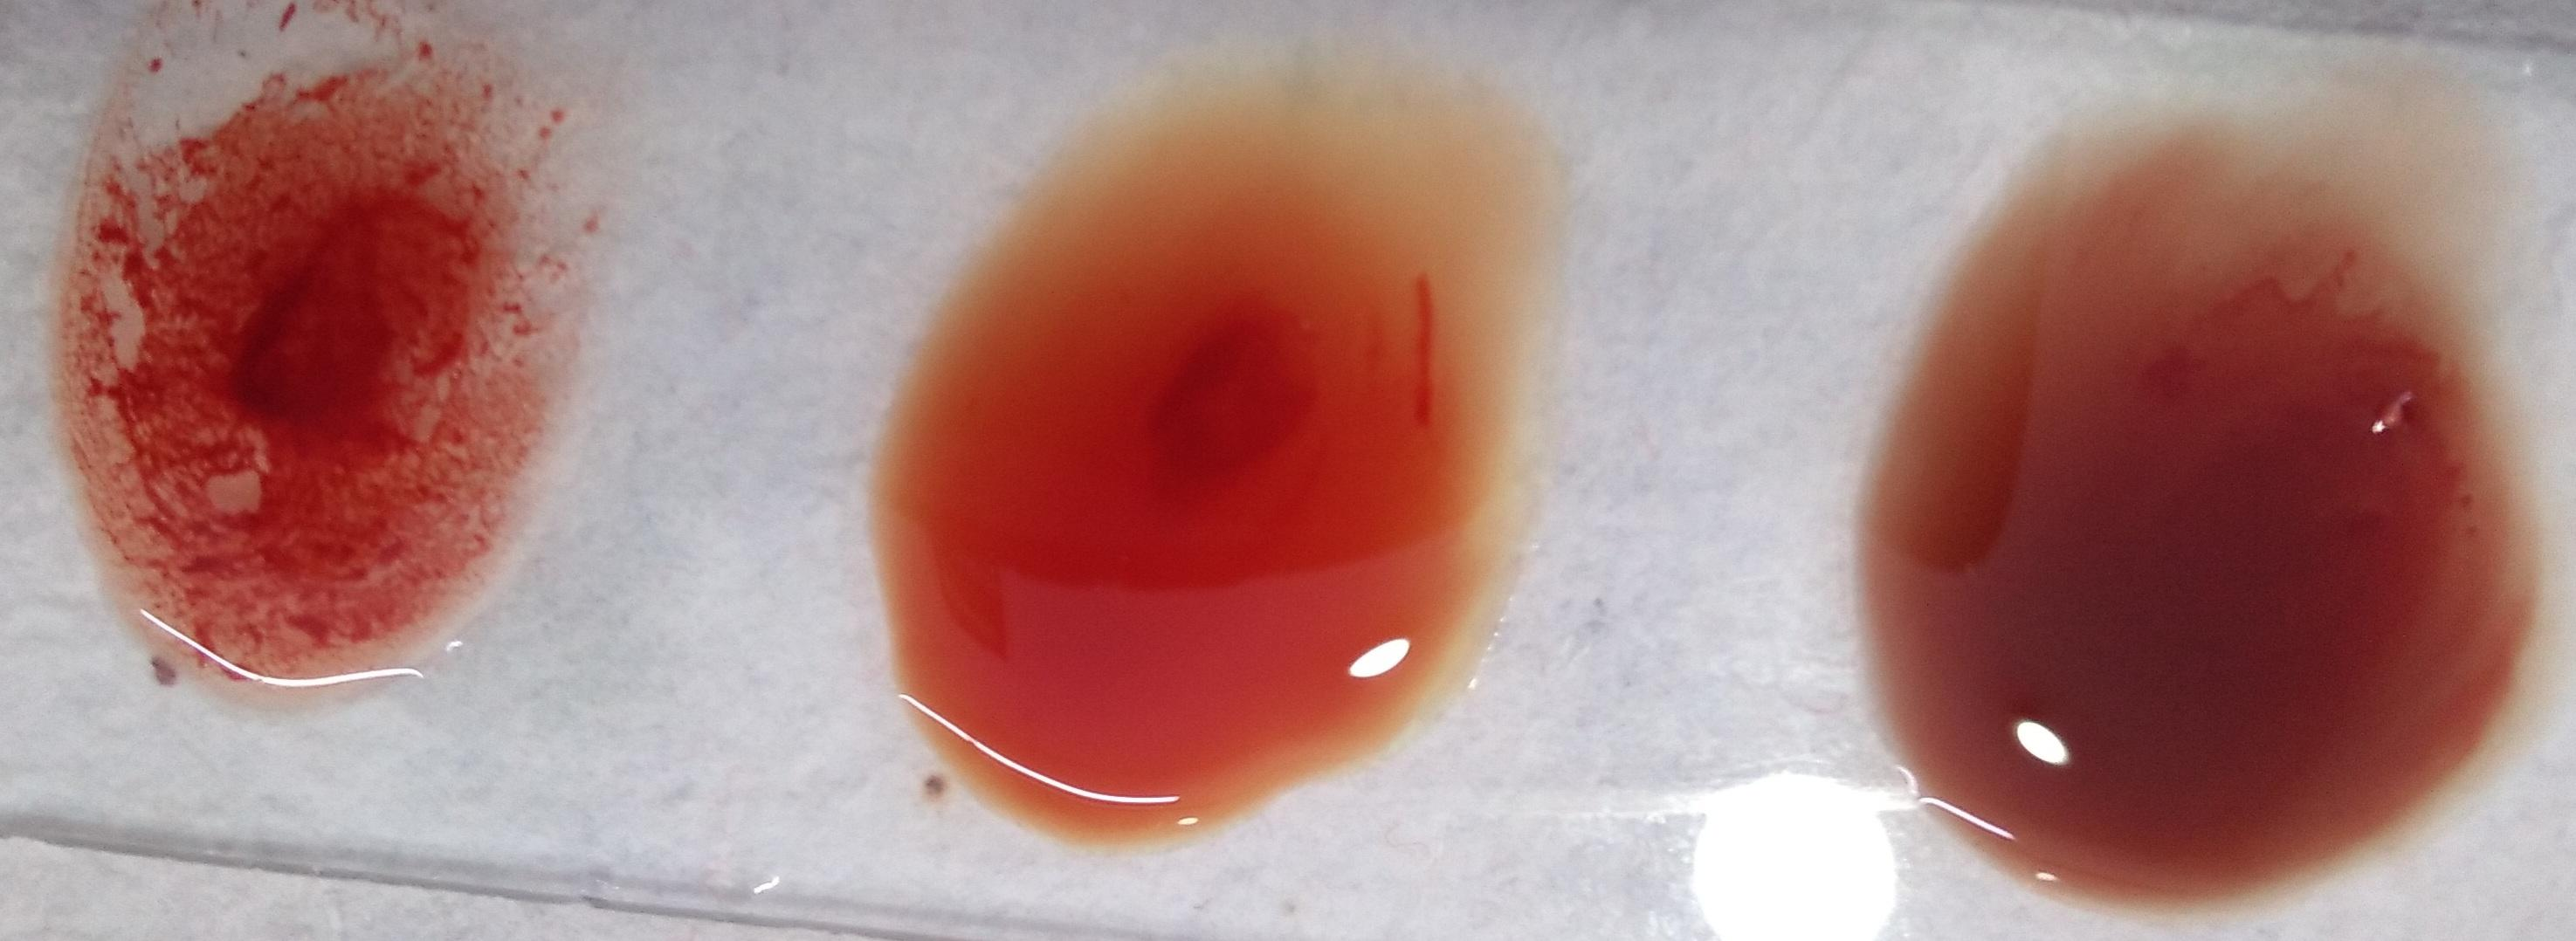D: (76, 21, 568, 703)
